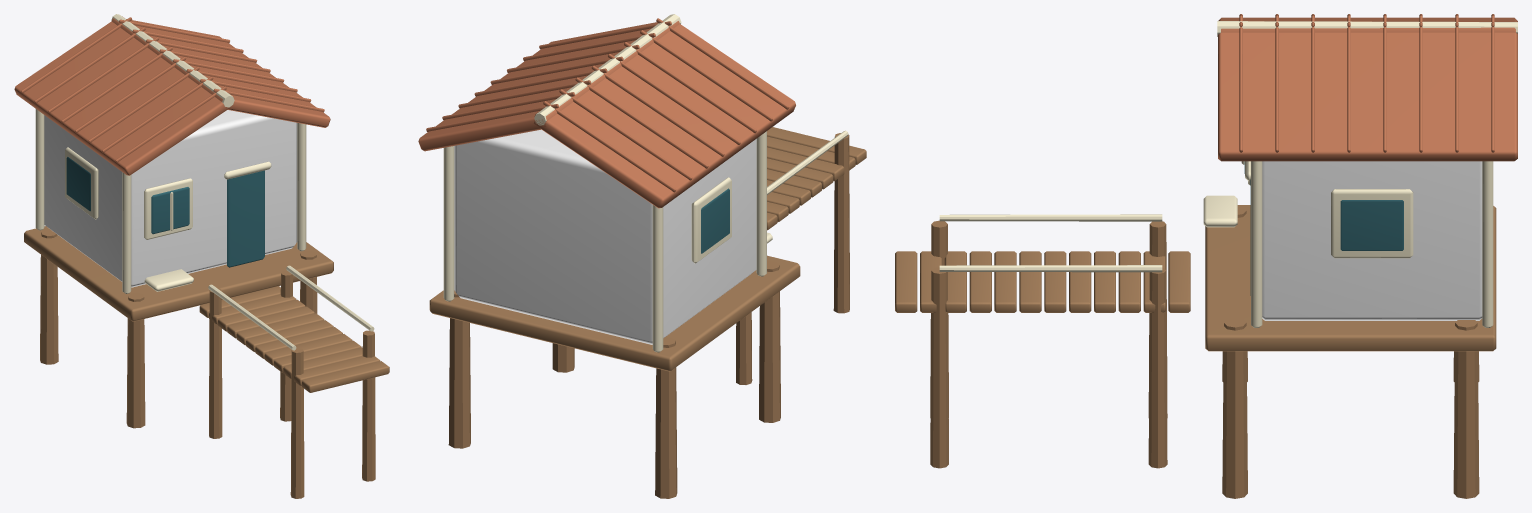
Rendered from palafito.glb.
3 views of the same model, side by side, from view 1: azimuth 30°, elevation 25°; view 2: azimuth 150°, elevation 25°; view 3: azimuth 270°, elevation 25° (orthographic). The views are drawn at different scales.
Visible parts, largest first — view 1: Honey wood, Terracotta roof, HouseColor, Cream trim, Window shade; view 2: HouseColor, Terracotta roof, Honey wood, Cream trim, Window shade; view 3: Honey wood, Terracotta roof, HouseColor, Cream trim, Window shade.
Part boxes in pixels (x1,y1,x2,y2): Honey wood: [24, 226, 389, 498]; Terracotta roof: [14, 16, 330, 175]; HouseColor: [44, 110, 297, 287]; Cream trim: [35, 14, 374, 350]; Window shade: [66, 157, 264, 267]; HouseColor: [454, 129, 756, 344]; Terracotta roof: [418, 18, 795, 208]; Honey wood: [429, 127, 866, 498]; Cream trim: [443, 14, 848, 352]; Window shade: [701, 188, 729, 253]; Honey wood: [895, 205, 1496, 498]; Terracotta roof: [1218, 14, 1517, 161]; HouseColor: [1262, 161, 1482, 320]; Cream trim: [939, 21, 1517, 327]; Window shade: [1244, 161, 1403, 295].
Bounding box in the file's own units: 3.75 × 5.44 × 7.27.
